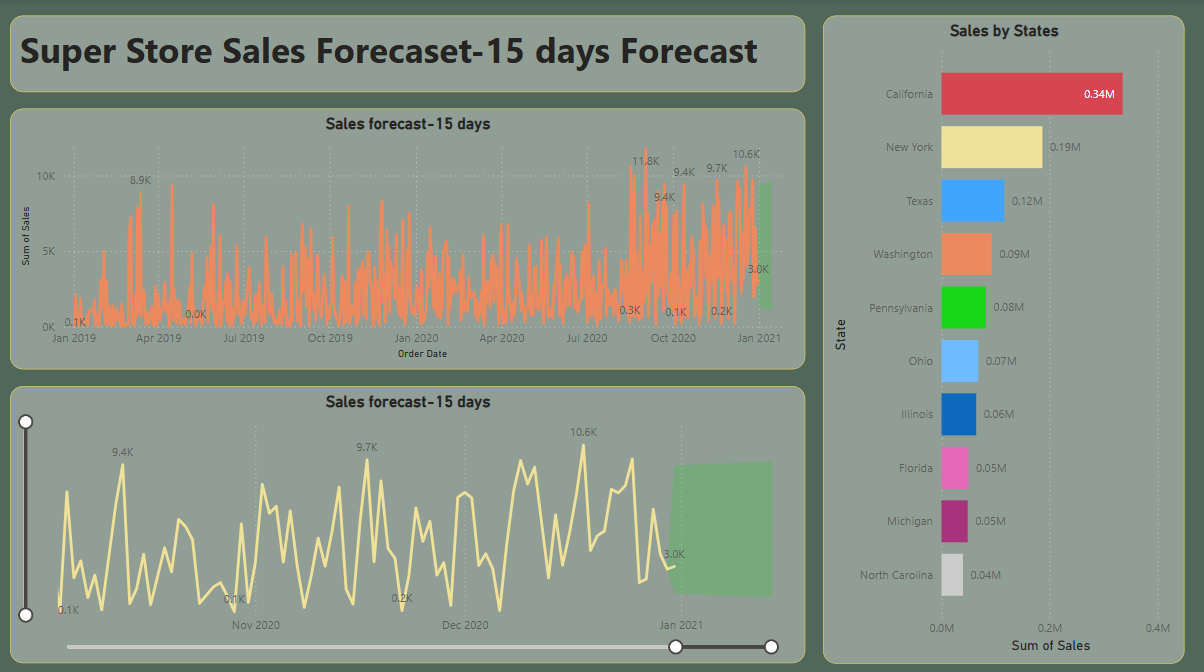

What the dashboard file says about the page in this screenshot:
{"tool":"powerbi","page":{"name":"Page 2","canvas":[1280,720],"ordinal":1},"visuals":[{"type":"lineChart","title":"Sales forecast-15 days","fields":{"Y":["Sum(SuperStore_Sales_Dataset.Sales)"],"Category":["SuperStore_Sales_Dataset.Order Date"]},"box":[12.7,116.1,843,276.8],"z":0},{"type":"lineChart","title":"Sales forecast-15 days","fields":{"Y":["Sum(SuperStore_Sales_Dataset.Sales)"],"Category":["SuperStore_Sales_Dataset.Order Date"]},"box":[12.7,410.4,843,294.3],"z":1000},{"type":"barChart","title":"Sales by States","fields":{"Category":["SuperStore_Sales_Dataset.State"],"Y":["Sum(SuperStore_Sales_Dataset.Sales)"]},"box":[874.8,17.5,383.3,687.1],"z":2000},{"type":"textbox","box":[12.7,17.5,843,81.1],"z":3000}]}

Visuals, with their boxes in screenshot pixels (x1, y1, x2, y2), scaled from the page's 1280x720 canvas onto the 1204x672 screenshot:
"Sales forecast-15 days" lineChart: BBox(12, 108, 805, 367)
"Sales forecast-15 days" lineChart: BBox(12, 383, 805, 658)
"Sales by States" barChart: BBox(823, 16, 1183, 658)
textbox: BBox(12, 16, 805, 92)
